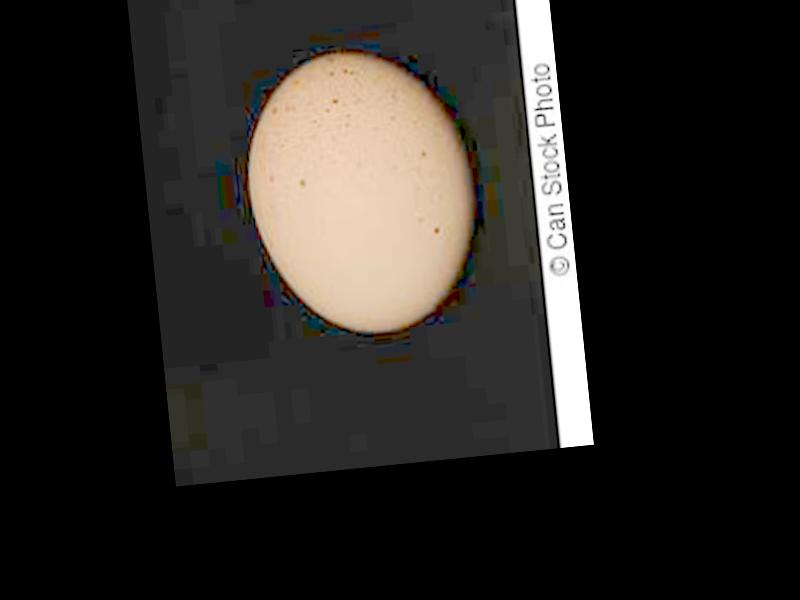Eggs: (238, 43, 486, 343)
